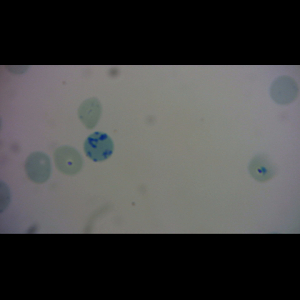aggregate reticulocyte: (83, 131, 115, 164)
erythrocyte: (52, 146, 86, 177), (269, 75, 300, 107), (247, 153, 278, 184), (23, 151, 52, 184), (78, 97, 101, 131)
